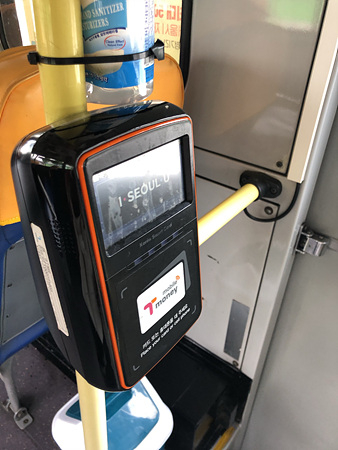terminal: (15, 100, 203, 384)
